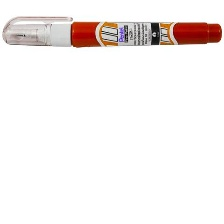correction_fluid: (1, 14, 223, 49)
